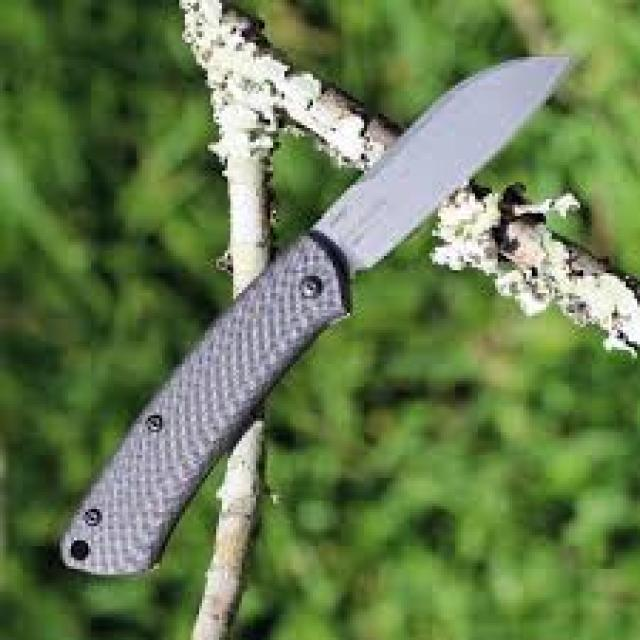knives: (231, 25, 605, 378)
